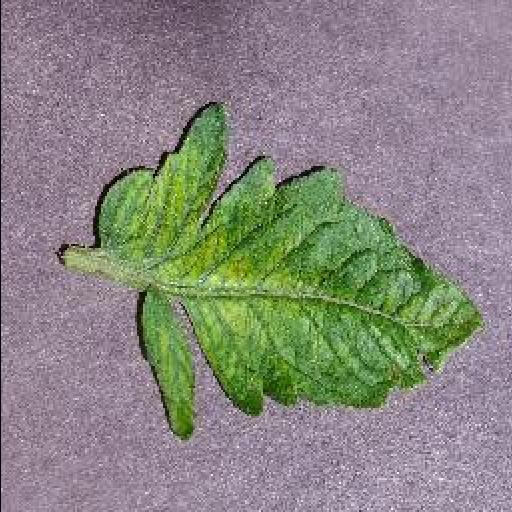disease_tomato: (94, 104, 484, 440)
